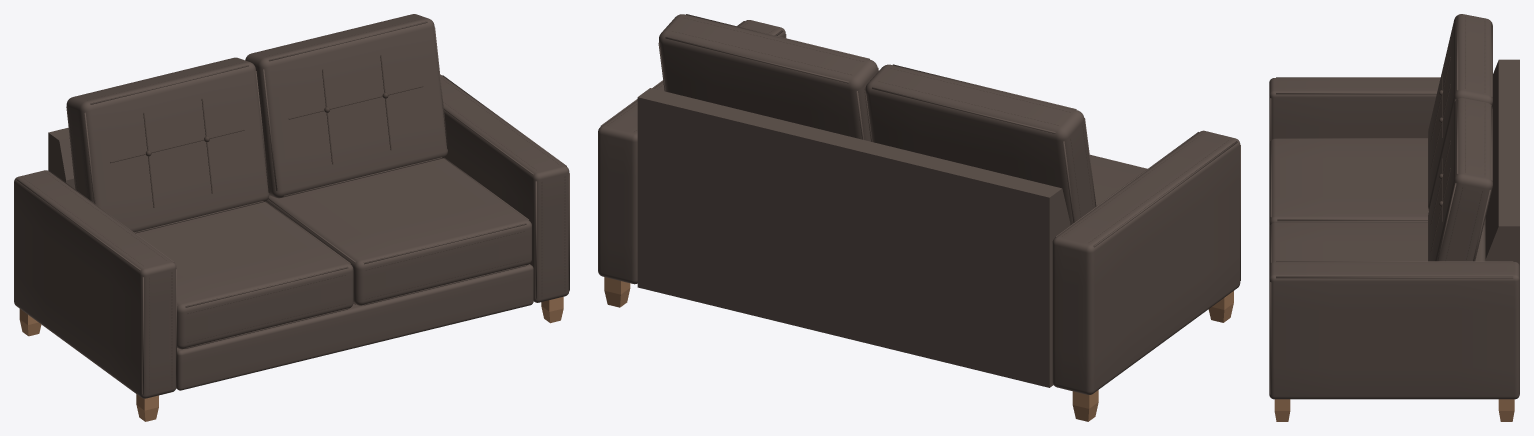
File: benza_180x95.glb
3 renders of one model, left to right at view 1: azimuth 30°, elevation 25°; view 2: azimuth 150°, elevation 25°; view 3: azimuth 270°, elevation 25°, orthographic. The views are drawn at different scales.
Parts seen in each view (by area): view 1: p1, p2, p0; view 2: p1, p0, p2; view 3: p1, p2, p0.
Boxes of the visible parts, x1,y1,x2,y2 form: p1: (14, 14, 569, 398); p2: (22, 16, 565, 392); p0: (19, 296, 563, 421); p1: (598, 14, 1240, 394); p0: (604, 277, 1233, 421); p2: (607, 18, 1228, 242); p1: (1269, 14, 1519, 399); p2: (1430, 16, 1485, 261); p0: (1274, 399, 1514, 421).
Size of the model in its own units: 1.8 by 0.9642 by 0.9506.
Materials: 3 (2 with a texture image).
